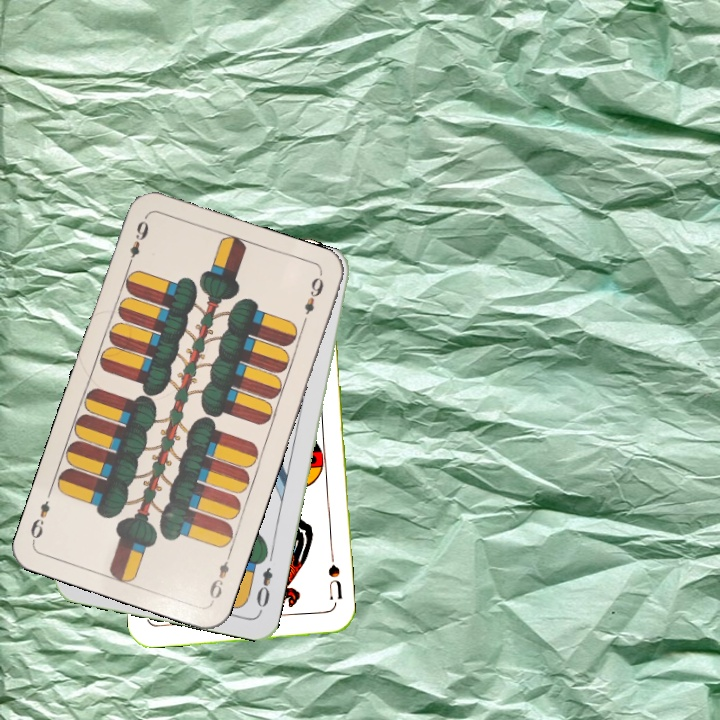E9: (205, 548, 234, 605), (123, 216, 152, 270)
EO: (252, 563, 276, 615)
SU: (324, 552, 345, 602)
